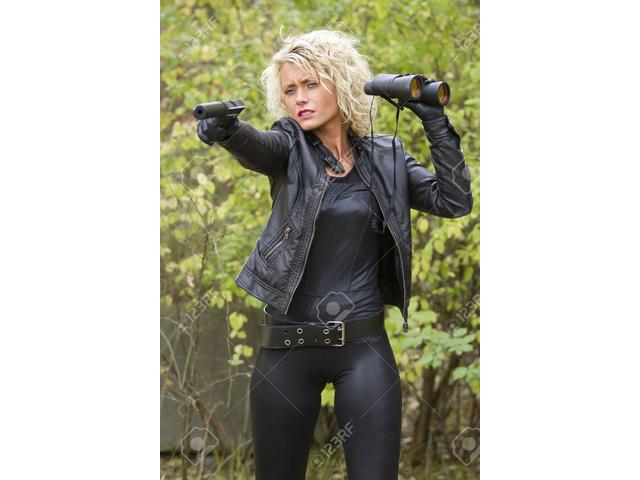pistol: (190, 98, 244, 146)
